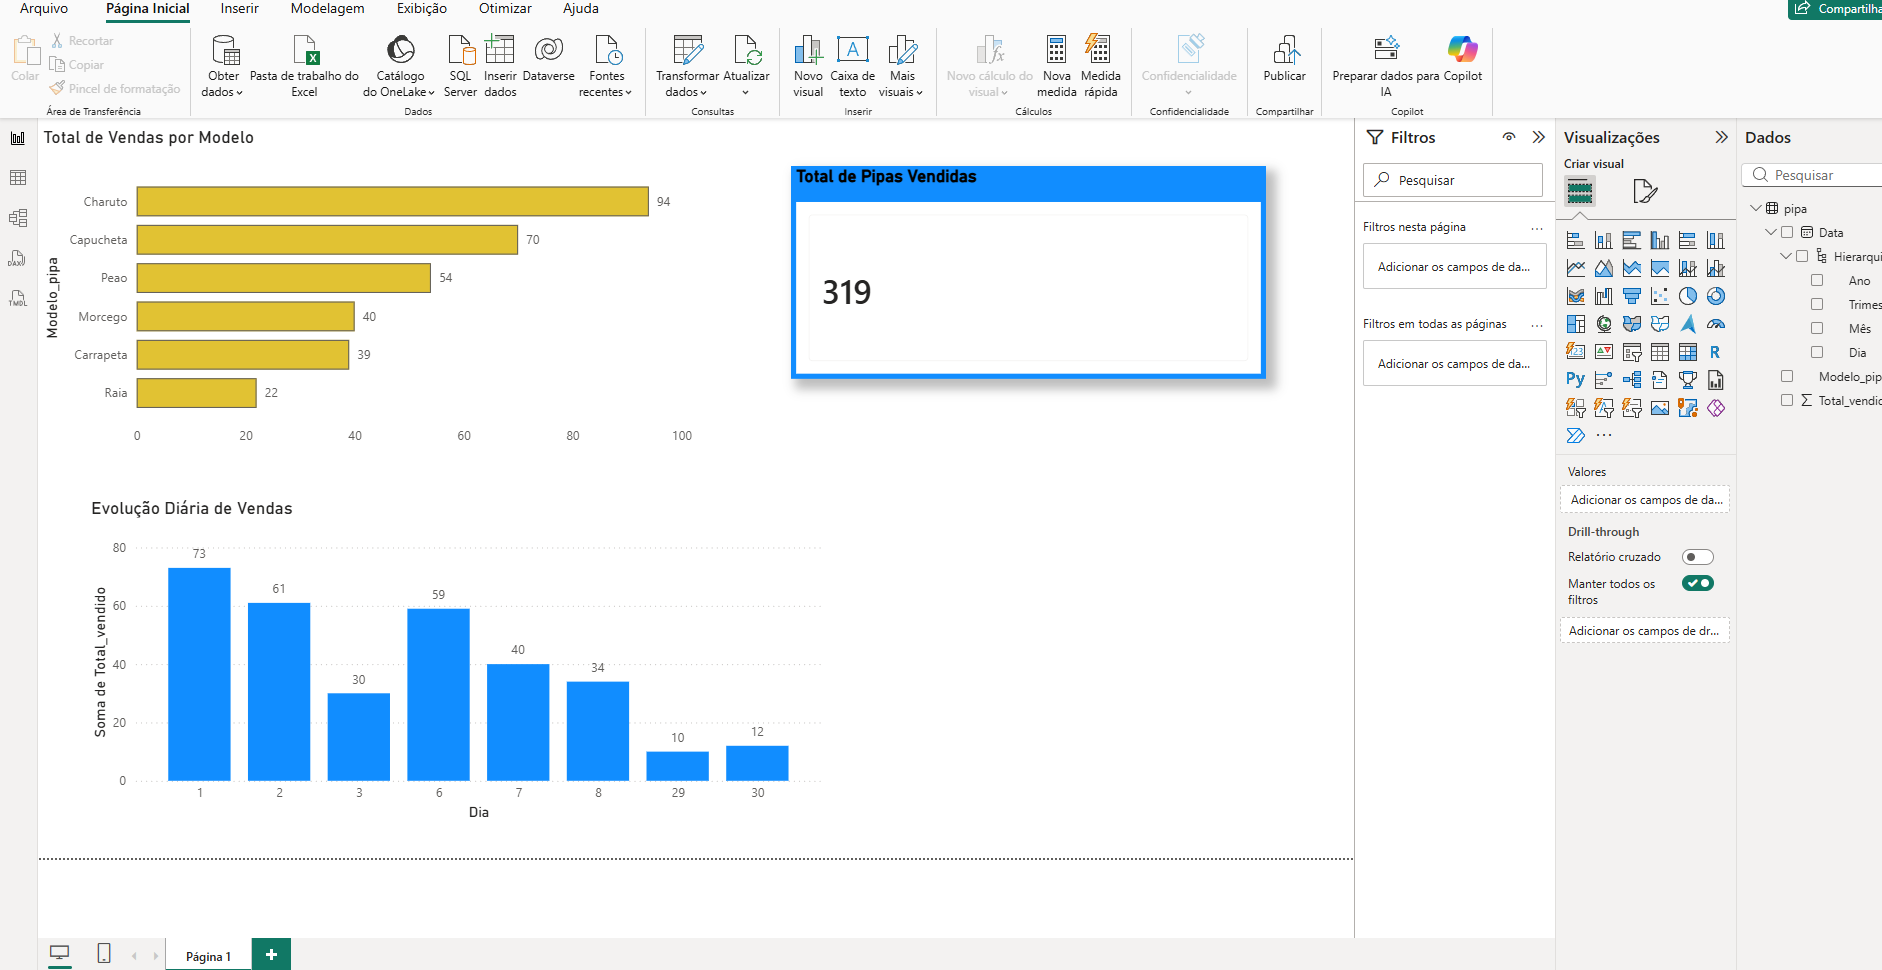

The dashboard page shown, as its layout file describes it:
{"tool":"powerbi","page":{"name":"Página 1","canvas":[1280,720],"ordinal":0},"visuals":[{"type":"barChart","title":"Total de Vendas por Modelo","fields":{"Y":["Sum(pipa.Total_vendido)"],"Category":["pipa.Modelo_pipa"]},"box":[0,8.8,641,318.1],"z":0},{"type":"cardVisual","title":"Total de Pipas Vendidas","fields":{"Data":["Sum(pipa.Total_vendido)"]},"box":[732.4,46.7,462,207.2],"z":1000},{"type":"clusteredColumnChart","title":"Evolução Diária de Vendas","fields":{"Category":["pipa.Data.Variation.Hierarquia de datas.Dia"],"Y":["Sum(pipa.Total_vendido)"]},"box":[46.7,369.6,720.7,318.1],"z":2000}]}

Visuals, with their boxes on the page's 1280x720 design canvas (x1, y1, x2, y2). These are canvas units, not pixel positions in the 1882x970 screenshot, which may show the page scaled, cropped or inside an application window:
"Total de Vendas por Modelo" barChart: bbox=[0, 9, 641, 327]
"Total de Pipas Vendidas" cardVisual: bbox=[732, 47, 1194, 254]
"Evolução Diária de Vendas" clusteredColumnChart: bbox=[47, 370, 767, 688]
